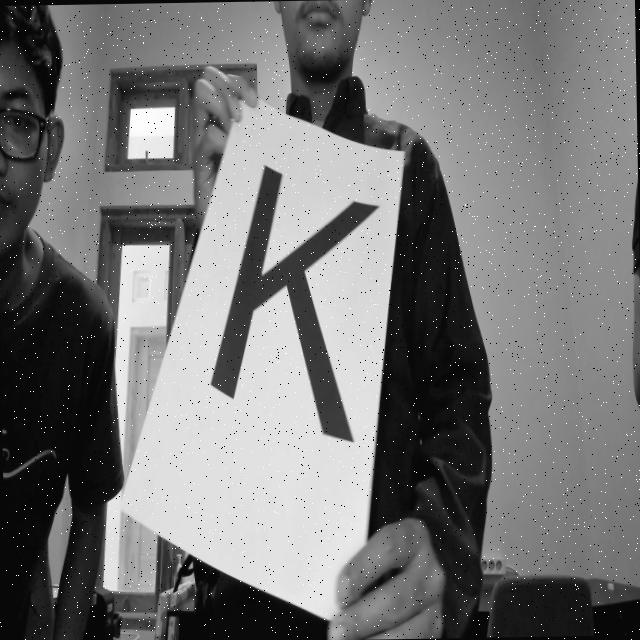k: (204, 160, 382, 458)
